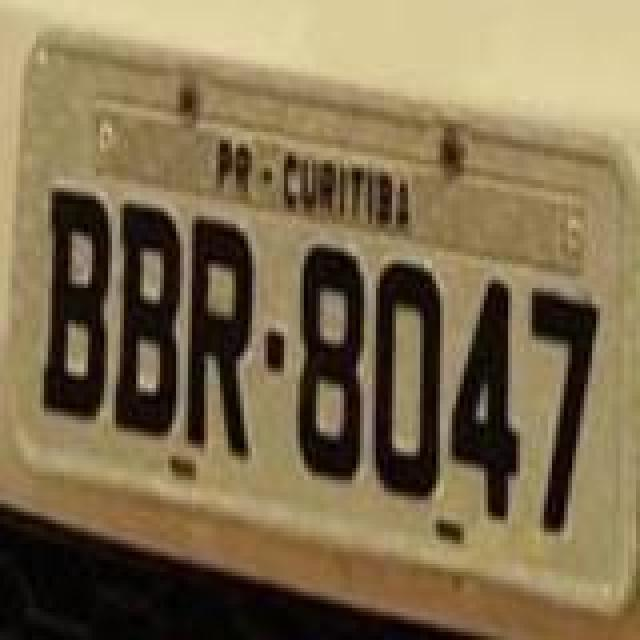4: (448, 280, 520, 520)
7: (532, 288, 604, 536)
8: (292, 242, 364, 478)
B: (40, 188, 112, 420), (114, 200, 182, 440)
O: (372, 260, 444, 500)
R: (186, 214, 254, 458)
